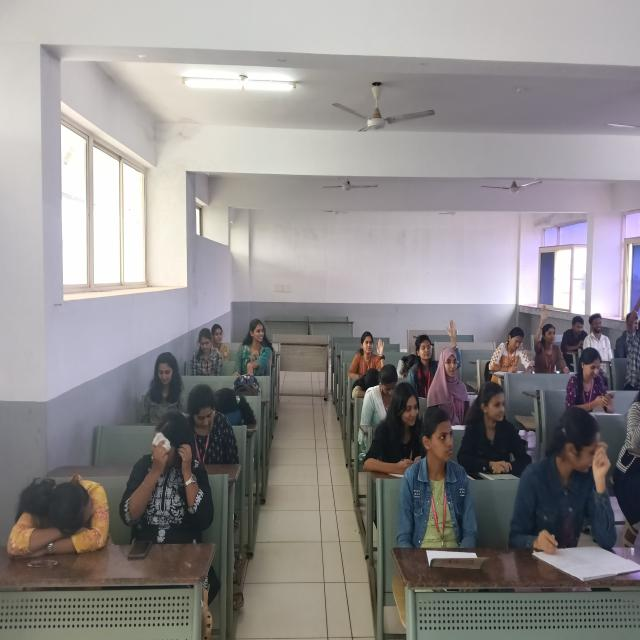Hand Rising: (414, 314, 467, 389), (531, 294, 570, 377), (338, 326, 397, 372)
Sleeping: (13, 468, 116, 560), (209, 382, 266, 438), (392, 342, 435, 377), (342, 369, 388, 400)
Using Phone: (559, 308, 591, 356)
Writing: (484, 325, 536, 382)
